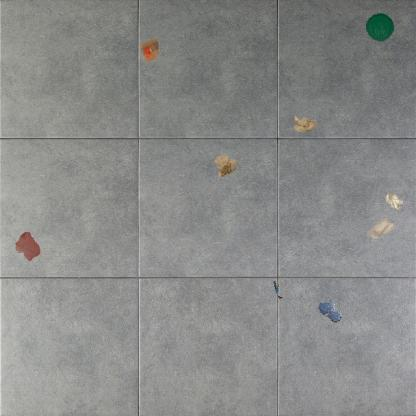dirty: (364, 11, 396, 44), (212, 152, 240, 180), (364, 217, 396, 241), (137, 35, 162, 65), (292, 114, 318, 134), (384, 190, 404, 212), (272, 278, 282, 300)
liquid: (15, 232, 40, 260), (317, 300, 343, 323)
